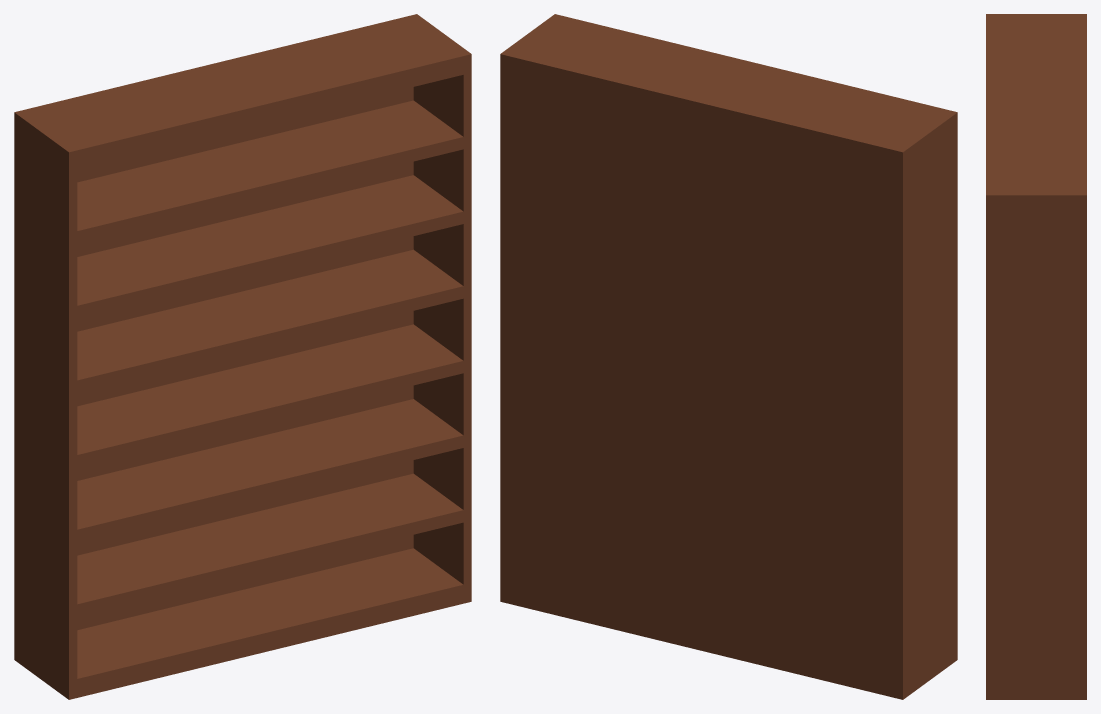
File: Bookshelf.fbx
3 views of the same model, side by side, from view 1: azimuth 30°, elevation 25°; view 2: azimuth 150°, elevation 25°; view 3: azimuth 270°, elevation 25° (orthographic). The views are drawn at different scales.
Visible parts, largest first — view 1: Bookshelf; view 2: Bookshelf; view 3: Bookshelf.
Boxes of the visible parts, x1,y1,x2,y2 form: Bookshelf: [14, 14, 471, 699]; Bookshelf: [500, 14, 957, 699]; Bookshelf: [986, 14, 1086, 699].
Size of the model in its own units: 876 by 206 by 1138.
